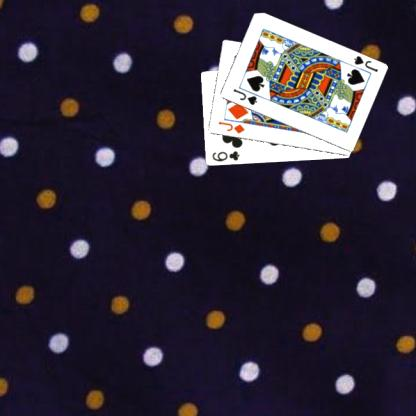6C: (209, 149, 241, 163)
JD: (216, 118, 245, 135)
JS: (351, 53, 379, 74), (230, 86, 258, 106)
